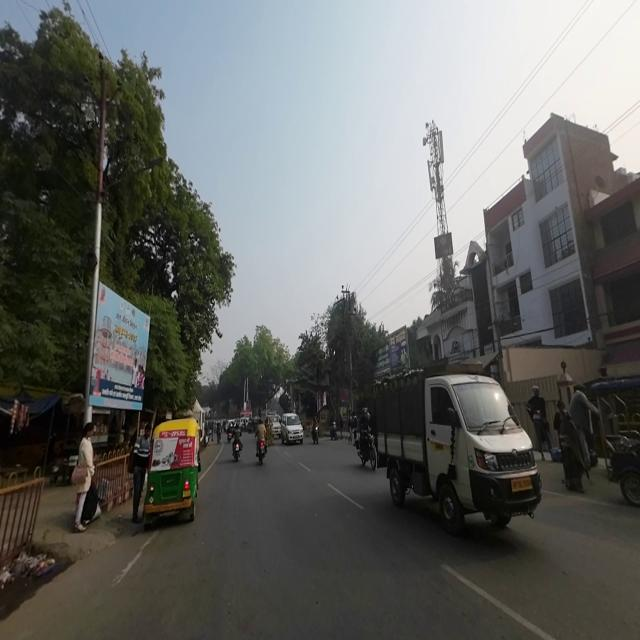Garbage: (14, 548, 58, 576)
